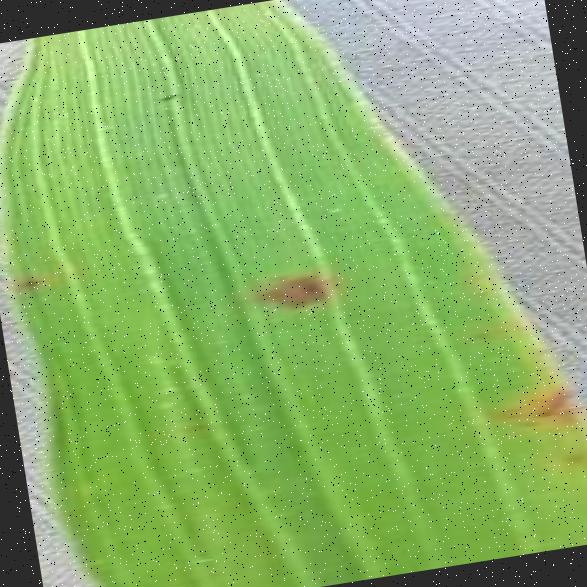Brown_Spot: (234, 252, 342, 331), (489, 376, 586, 440), (526, 382, 582, 428), (142, 78, 192, 113), (8, 265, 52, 298), (553, 438, 587, 475), (460, 318, 497, 350), (491, 399, 527, 424), (518, 415, 541, 432)
